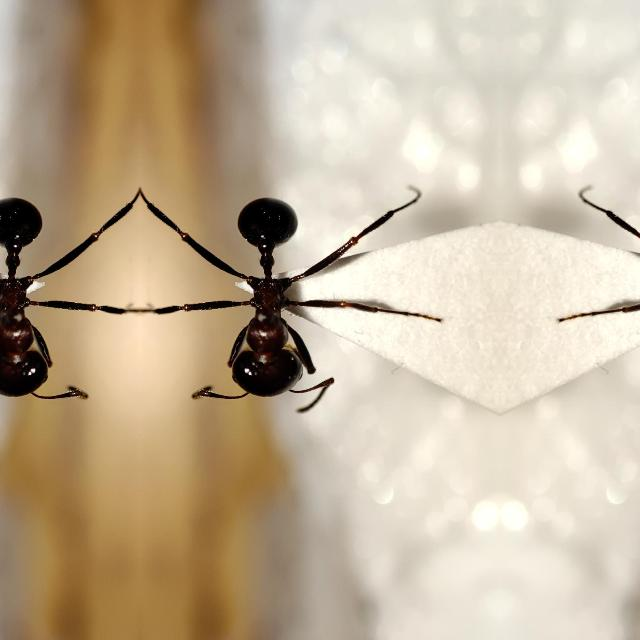Messor: (183, 162, 351, 428), (0, 162, 97, 428)
